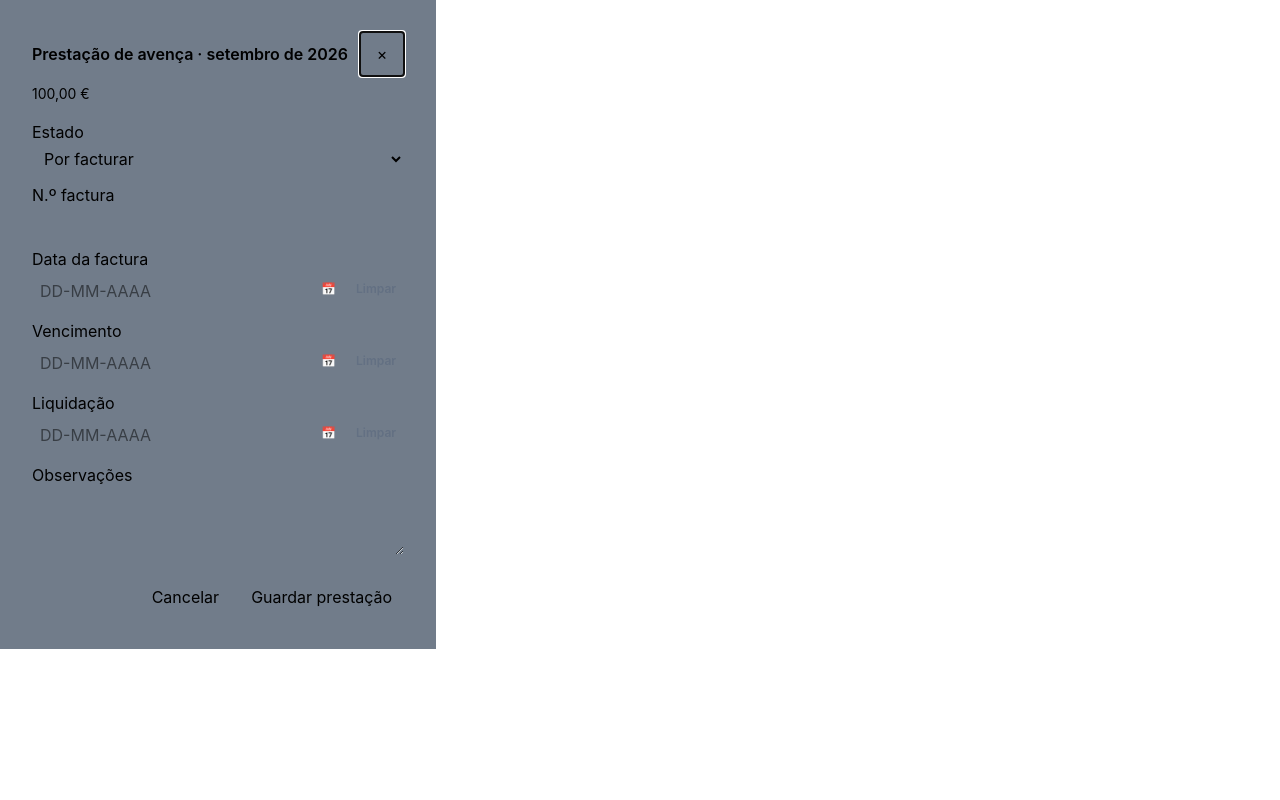
ficha de prestação › falha de gravação mantém a ficha e os dados preenchidos
Type "Ensaio sintético" into the text box labelled "Observações" at (218, 523), box top-left (32, 491), bottom-right (404, 555)
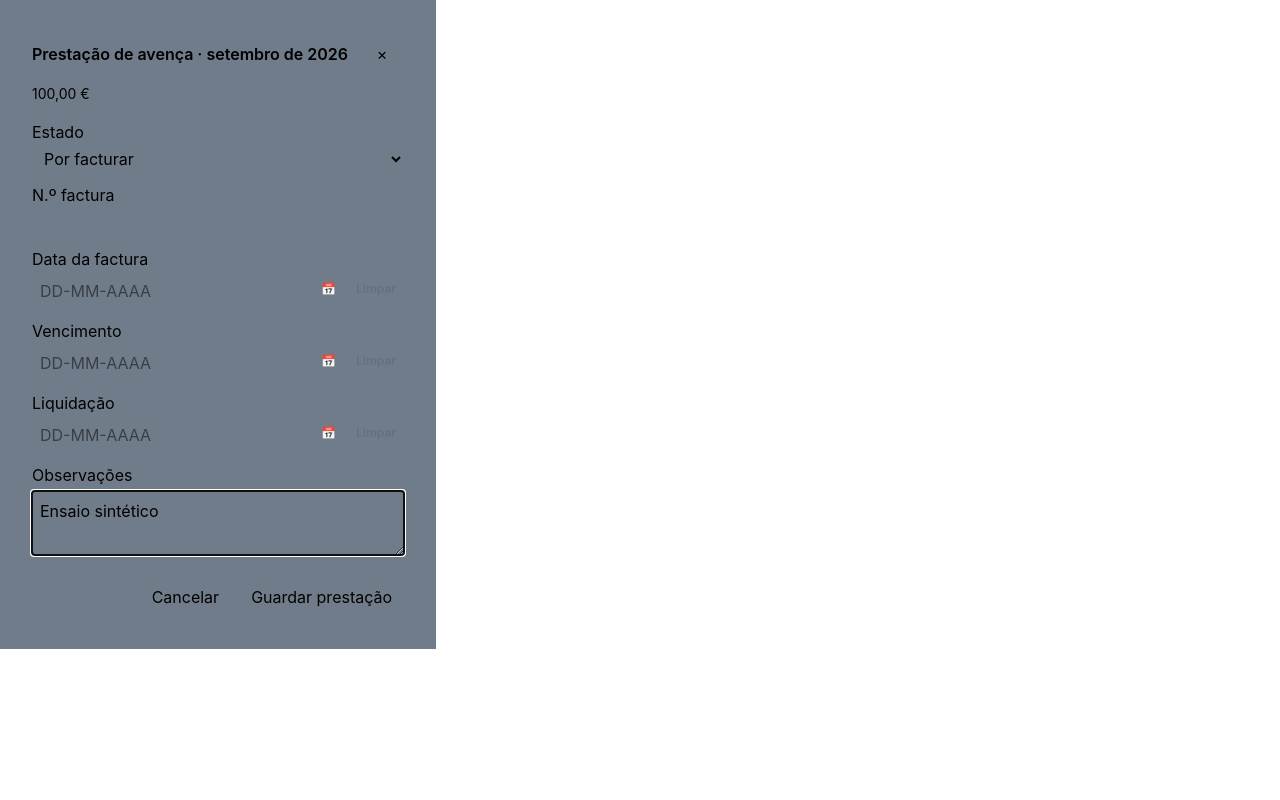
Click the button "Guardar prestação" at (322, 597), box top-left (239, 577), bottom-right (404, 617)
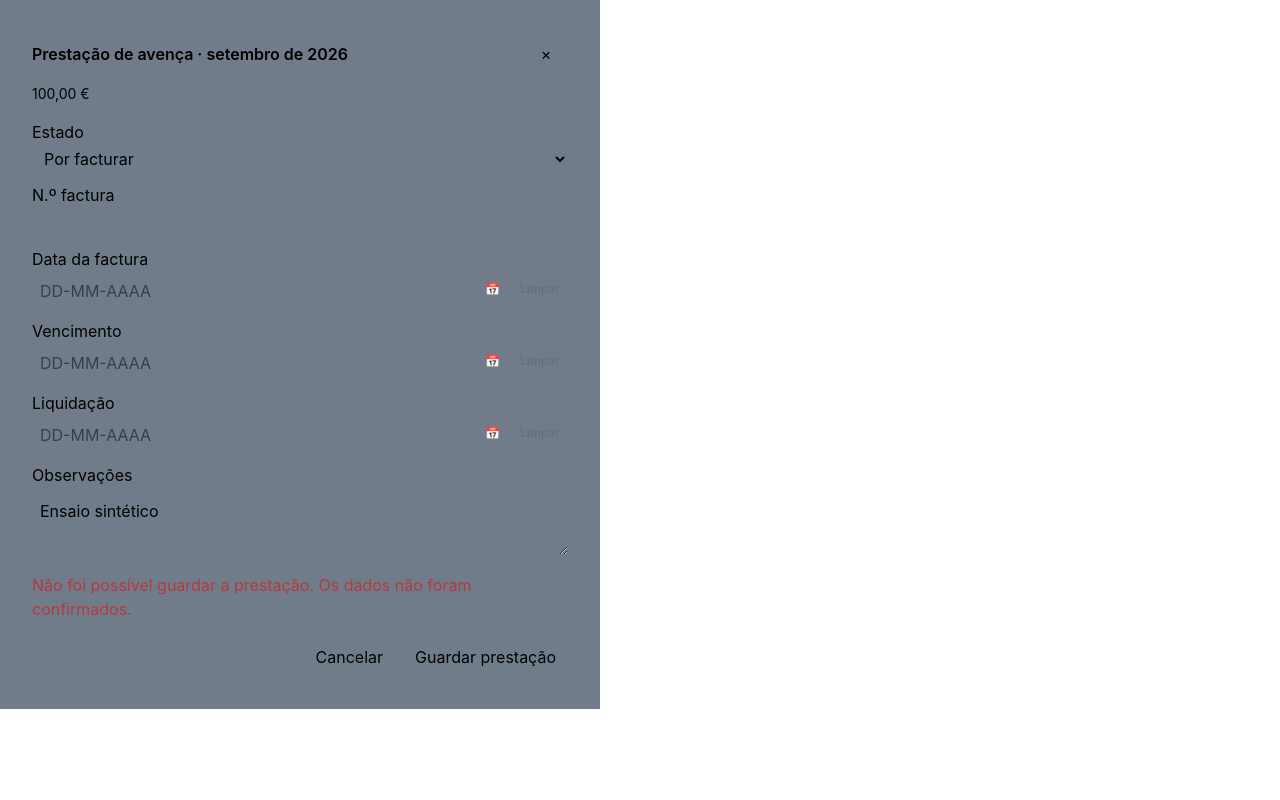
Expected: the message shows "Não foi possível guardar", top-left (32, 575), bottom-right (471, 619)
